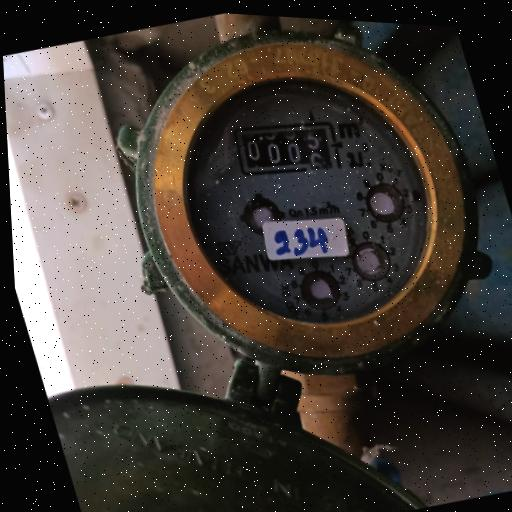0: (278, 127, 313, 170), (257, 127, 291, 170), (239, 130, 270, 171)
5: (298, 123, 337, 173)
border_water_meter_number: (226, 104, 348, 193)
